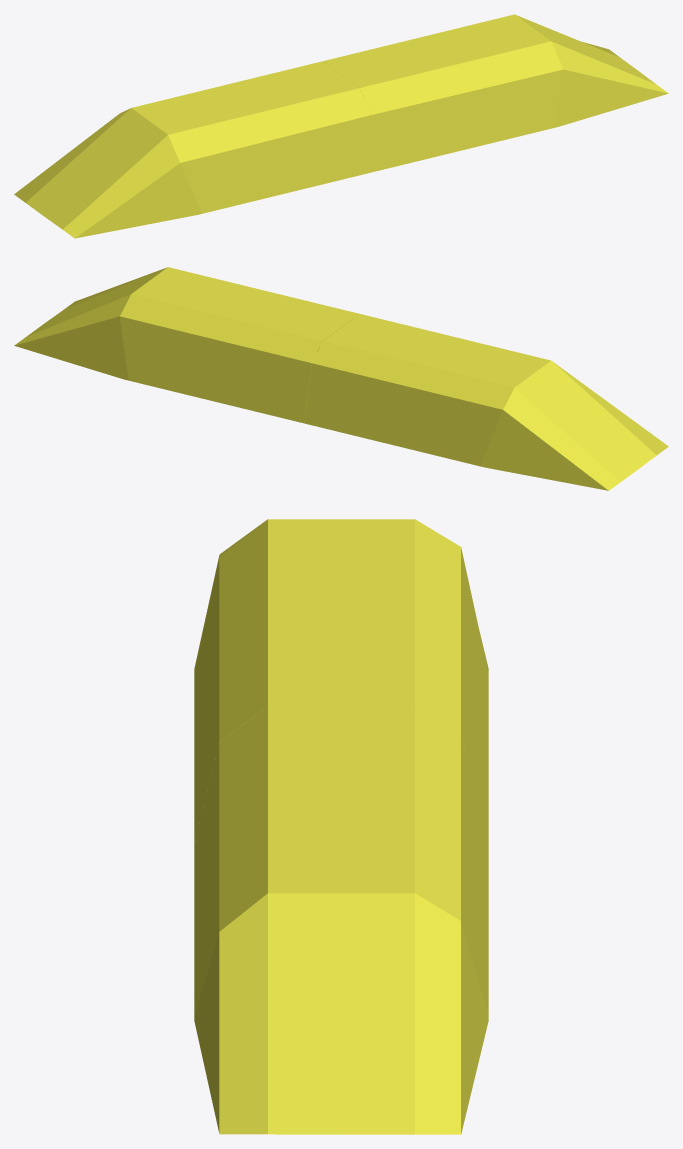
File: troncoCaido.fbx
The picture shows the model from 3 angles, top to bottom: view 1: azimuth 30°, elevation 25°; view 2: azimuth 150°, elevation 25°; view 3: azimuth 270°, elevation 25°; orthographic projection. The views are drawn at different scales.
Parts seen in each view (by area): view 1: Cube; view 2: Cube; view 3: Cube.
Part boxes in pixels (x1,y1,x2,y2): Cube: [14, 14, 668, 238]; Cube: [14, 267, 668, 490]; Cube: [194, 519, 488, 1134].
Size of the model in its own units: 934 by 104 by 200.
